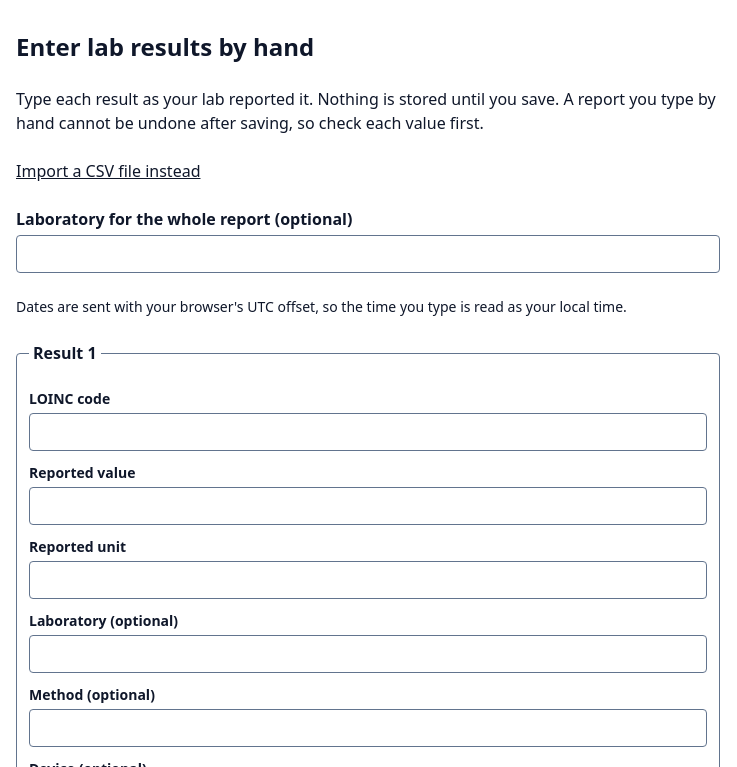
a missing required field blocks submit
Type "0000-0" into the field labelled "LOINC code". click: {"x": 368, "y": 432}
box: [29,413,707,451]
(page scrolled)
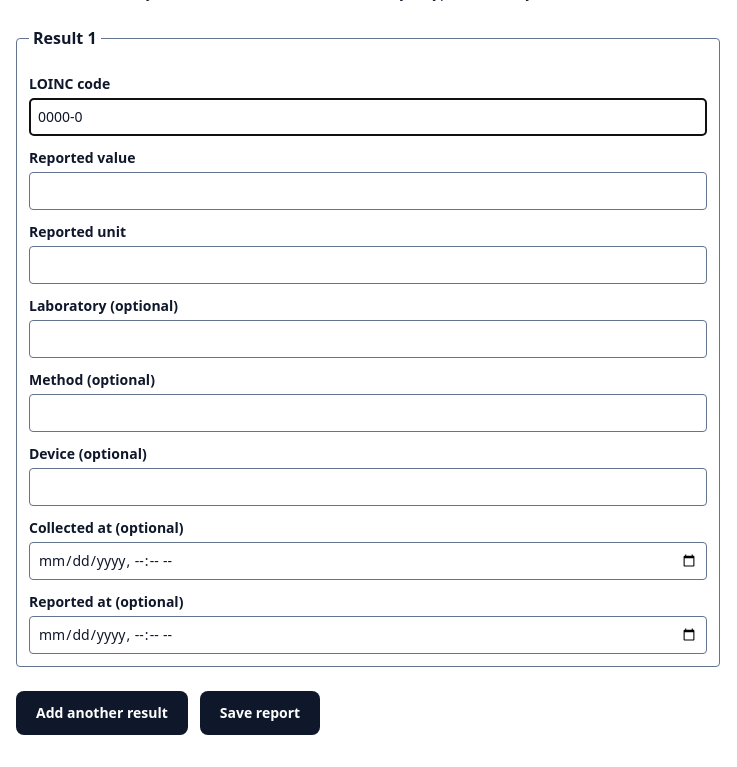
Click the button "Save report". click: {"x": 260, "y": 713}
box: [200,691,320,735]
(page scrolled)
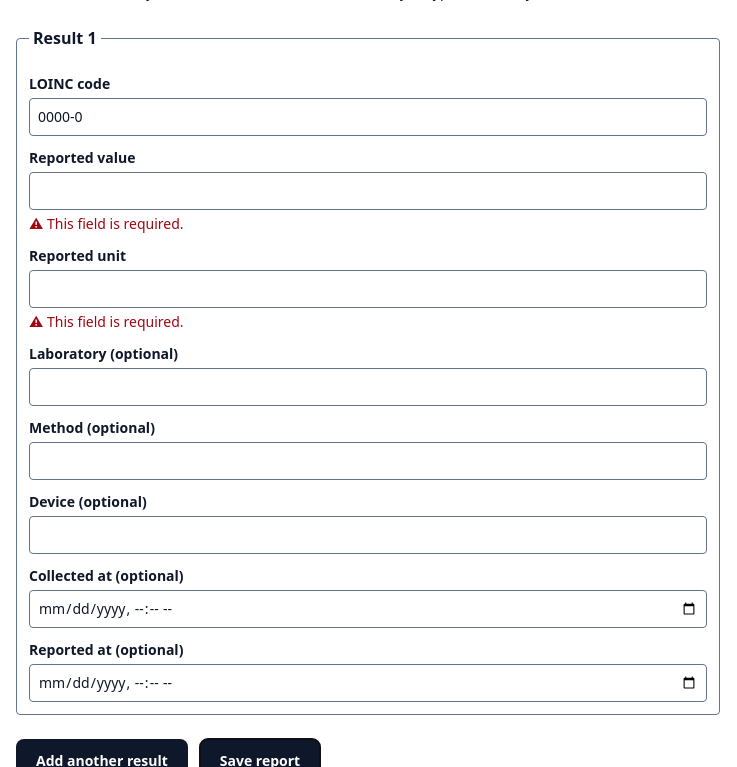
Result: the text "This field is required." is shown 2 times at [29,214,184,233]; [29,312,184,331]
